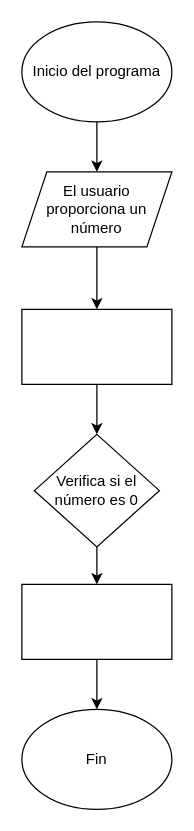
Some shapes in this 194 by 831 pixel diagram are drawn without their labels. Each missing label, with the centre of its shape:
"Mostrar Resultado" goes at point 96,621.
"Selecciona la Operación específica (+, -, *, /)" goes at point 96,346.
